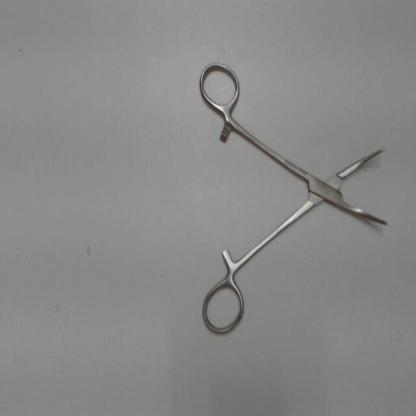Crile Artery Forceps: (192, 50, 395, 340)
